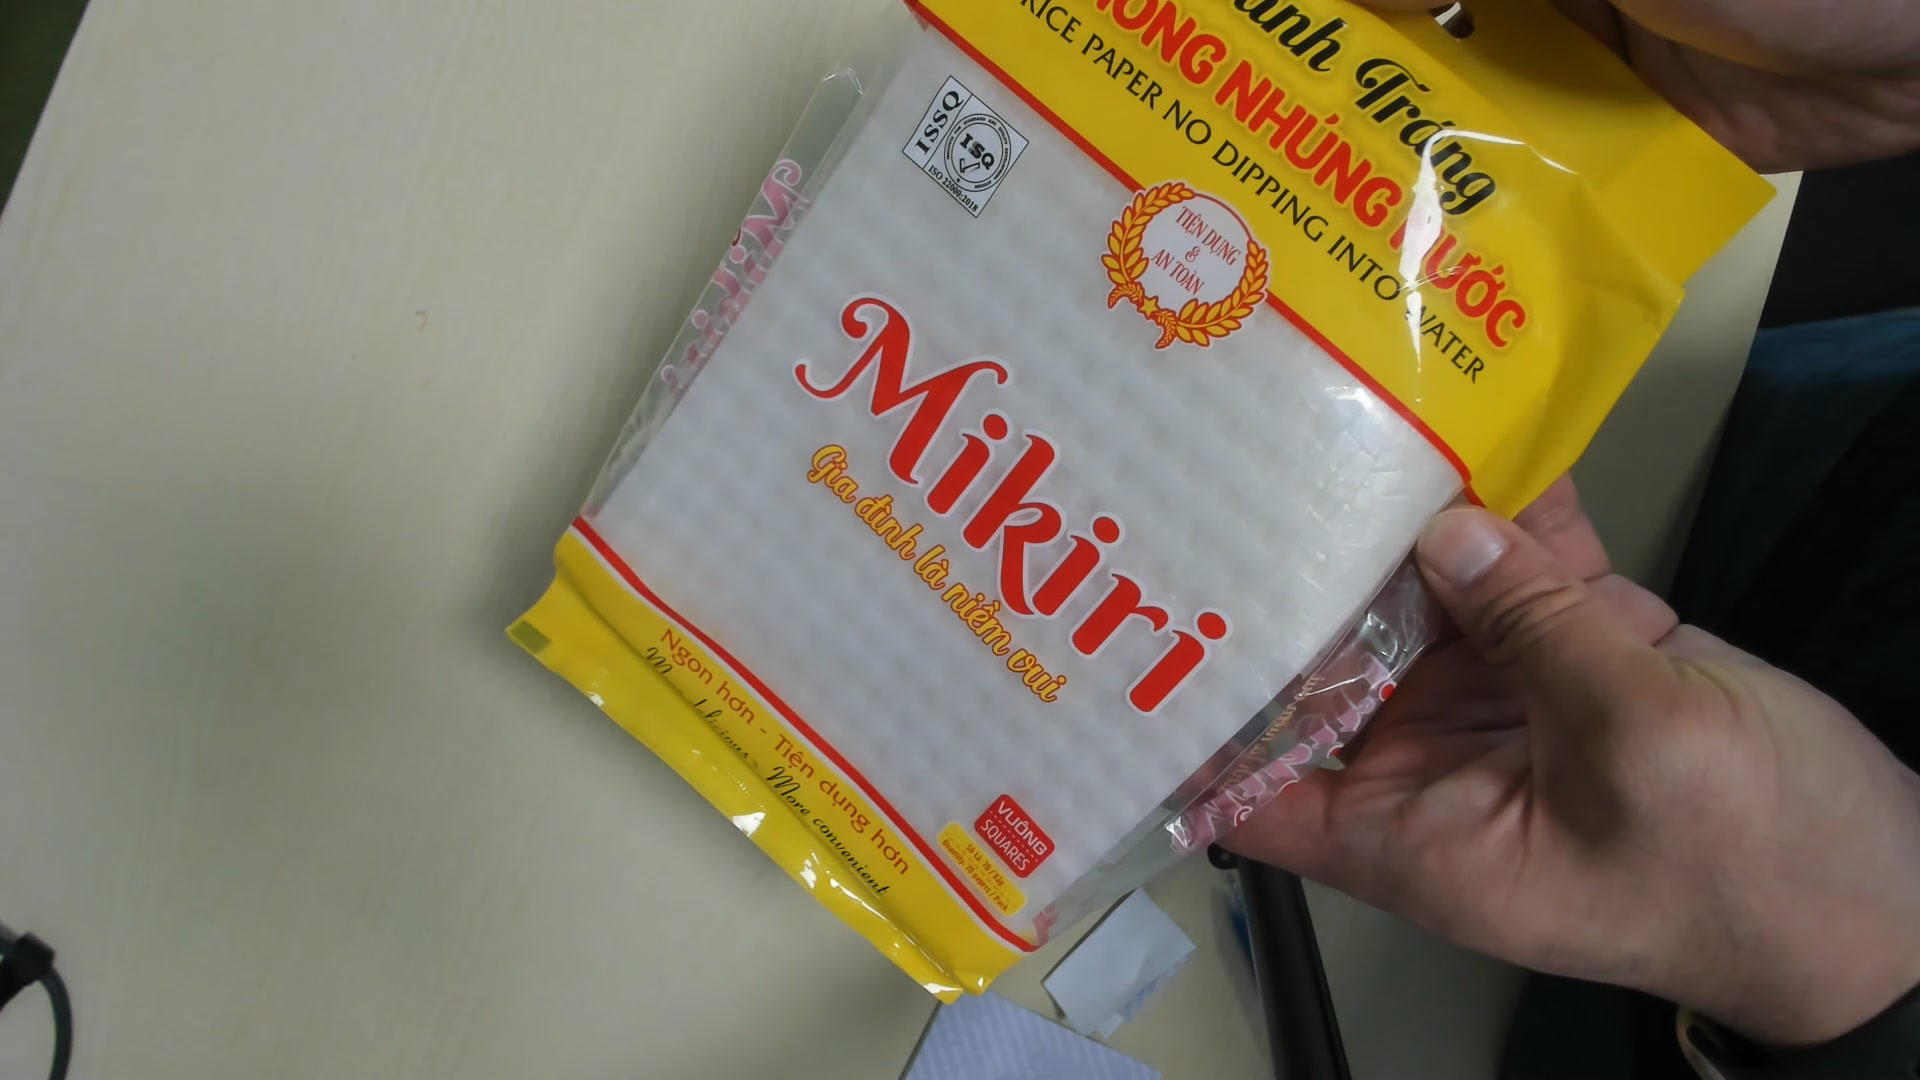InstantMeals_200_299g_NonHalal_NonHealthy: (498, 1, 1756, 1009)
